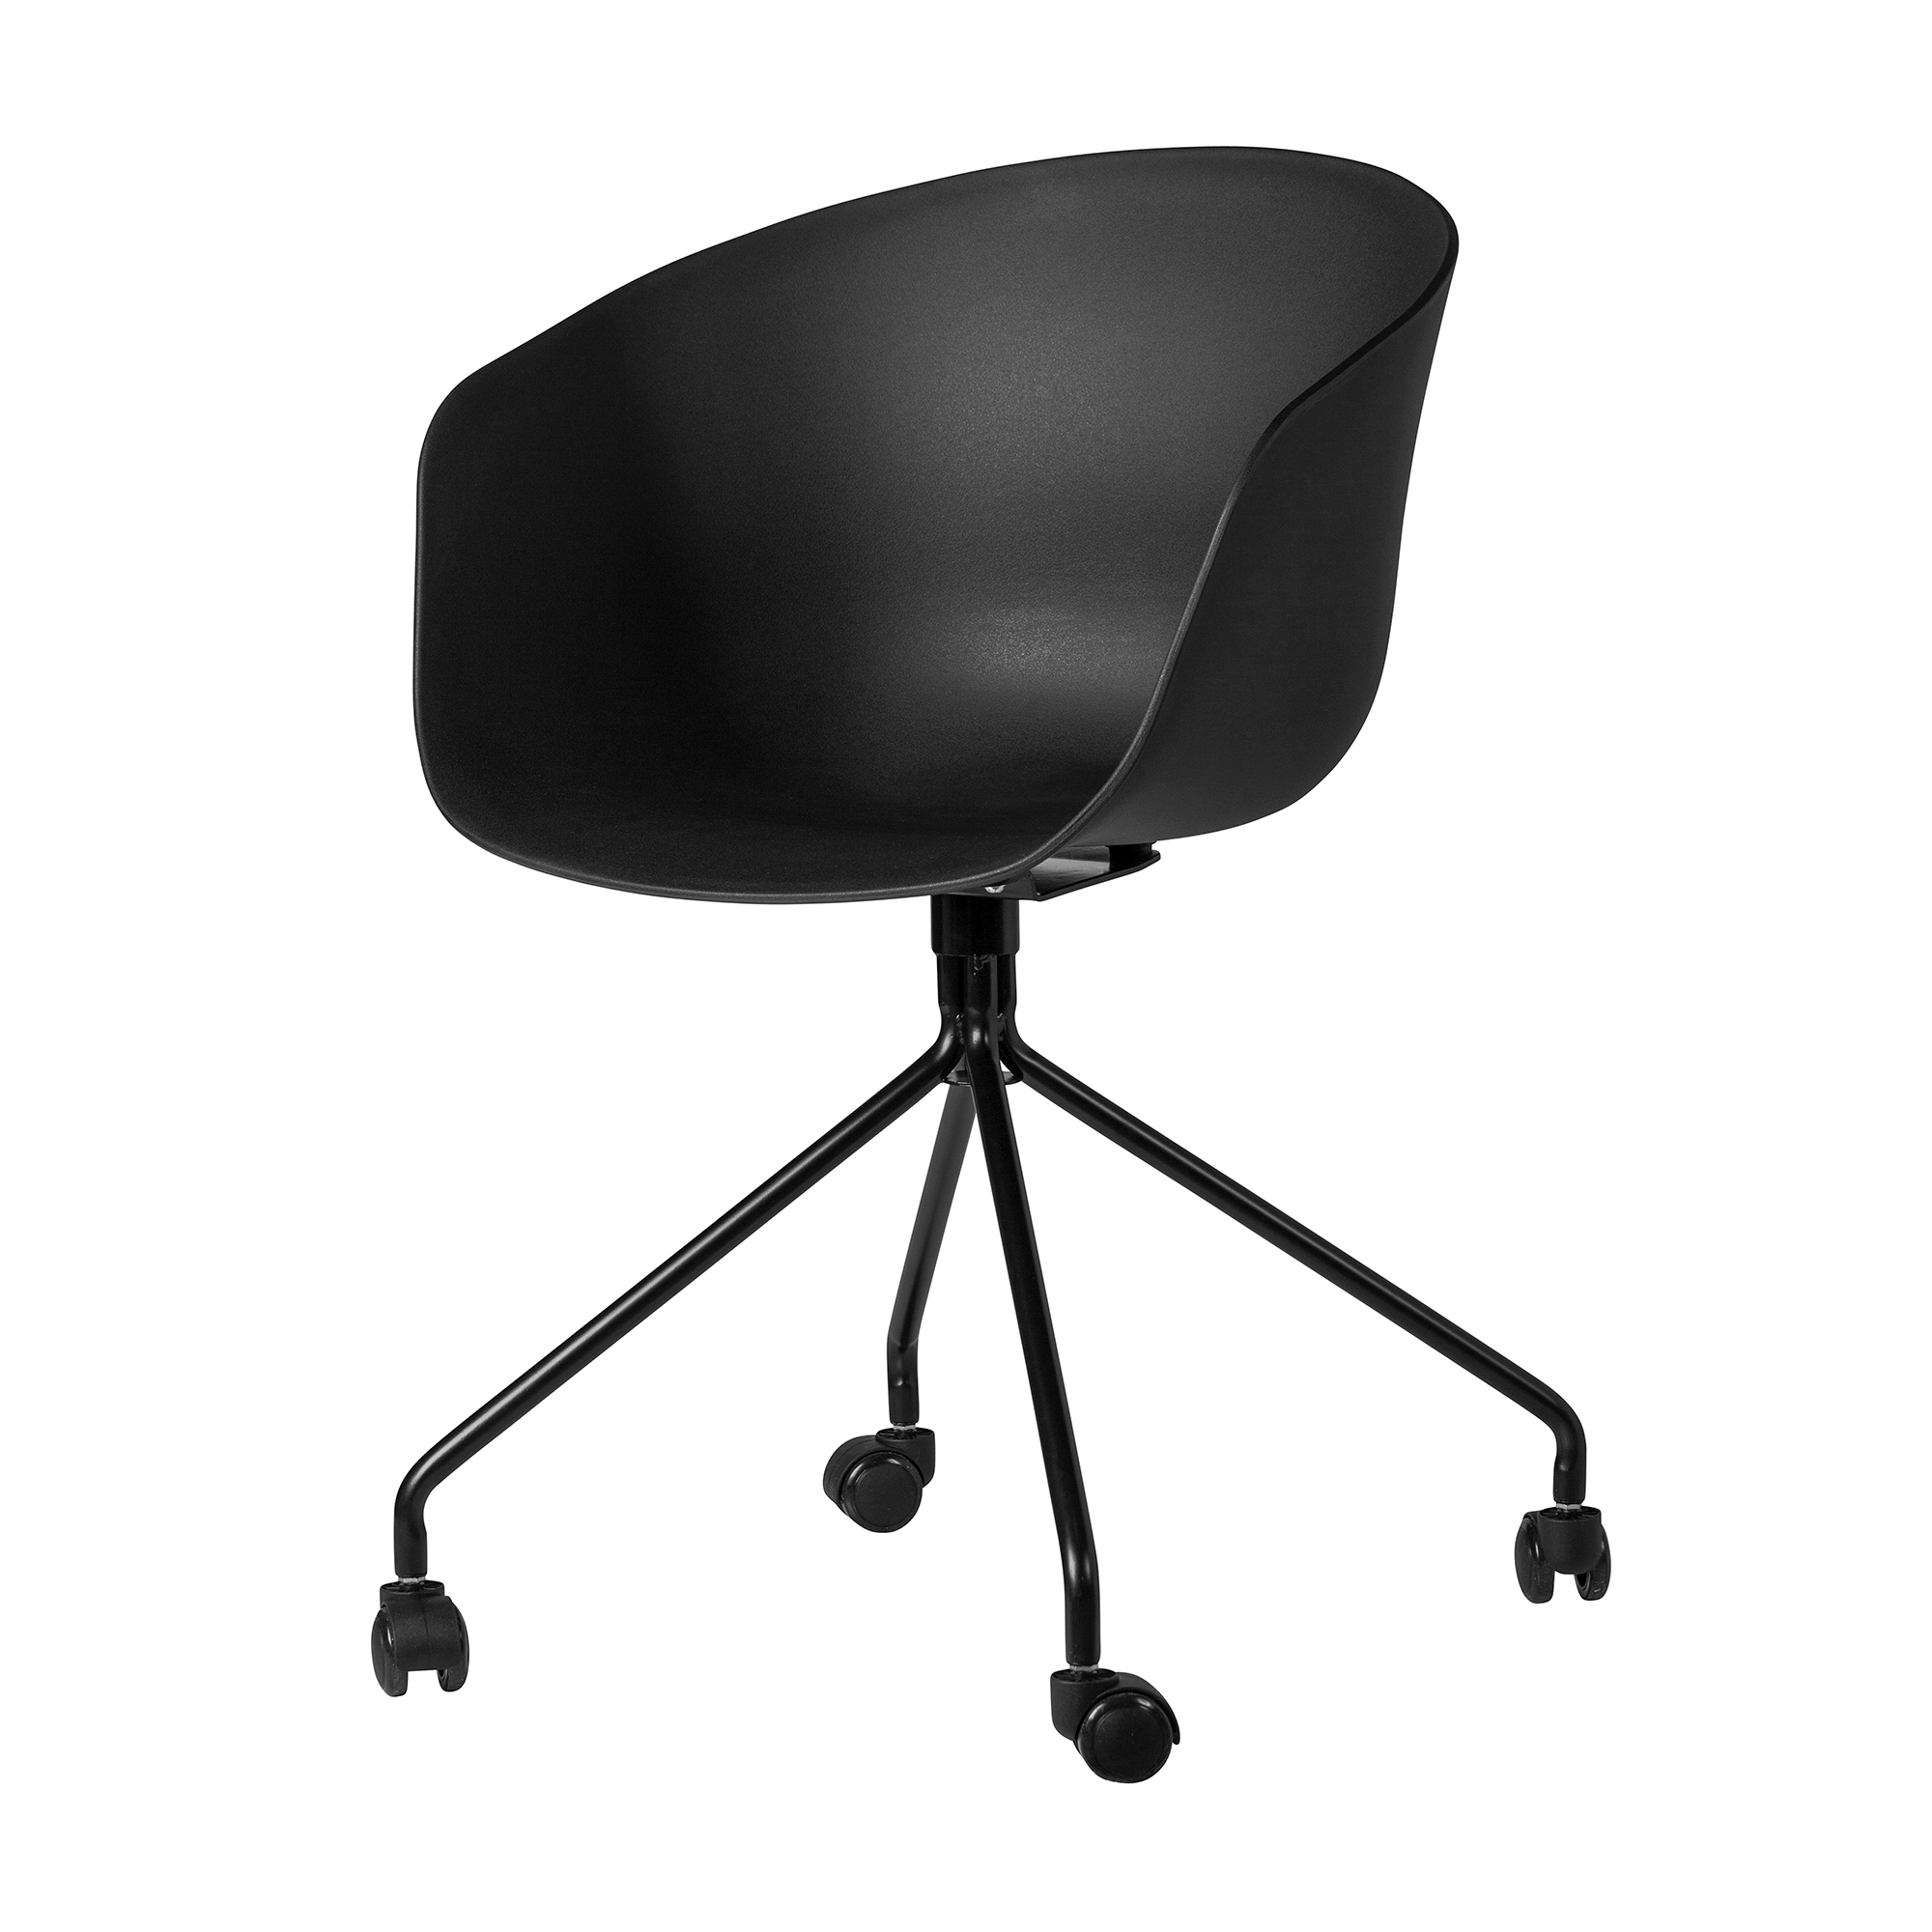chairs: (338, 142, 1629, 1790)
